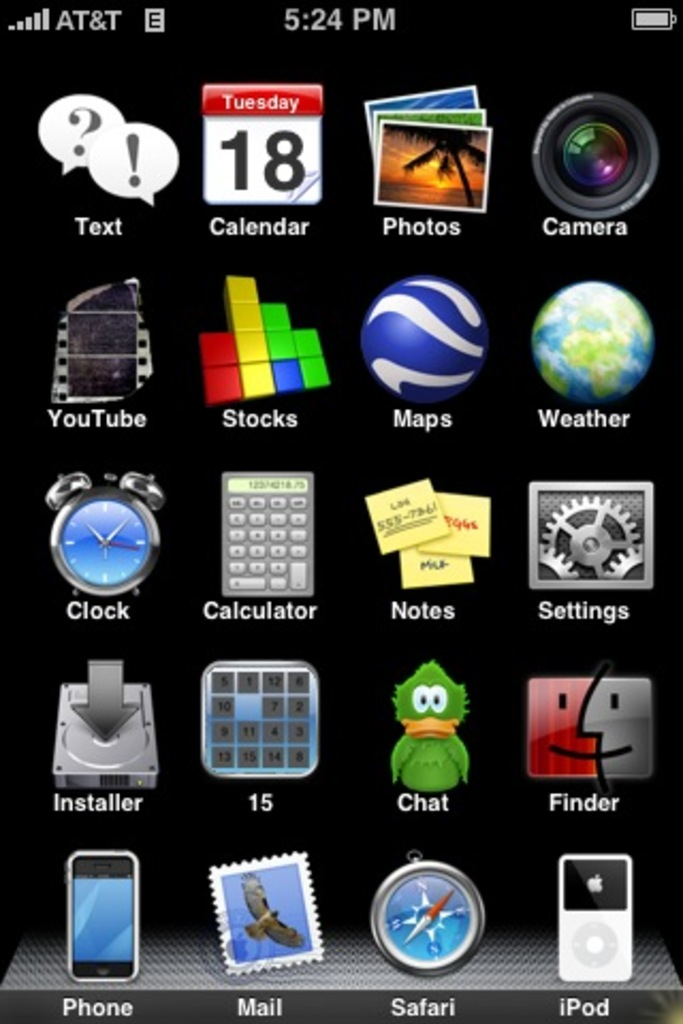mobile phone: (0, 0, 680, 1021)
